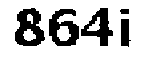4: (81, 6, 114, 48)
6: (48, 7, 80, 50)
8: (13, 5, 45, 49)
i: (120, 6, 135, 52)
